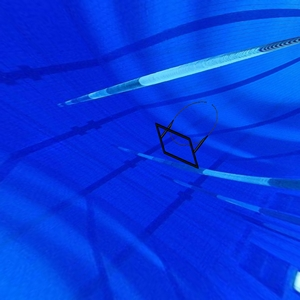circle: (154, 99, 222, 171)
